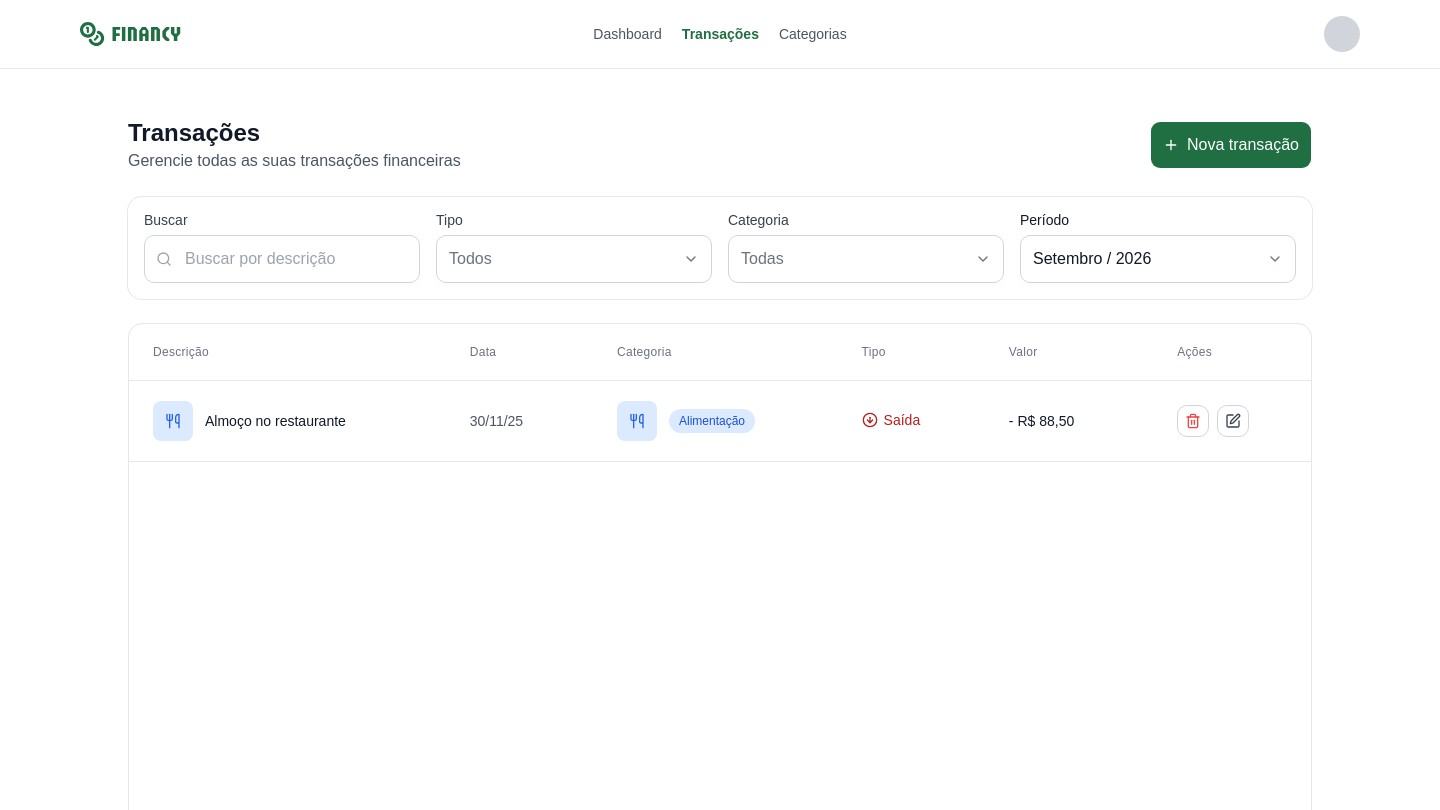
TransactionsPage › opens DeleteTransactionAlert for the clicked row's transaction
Click the button named "Excluir" at coordinates (1193, 421), box [1177,405,1209,437]
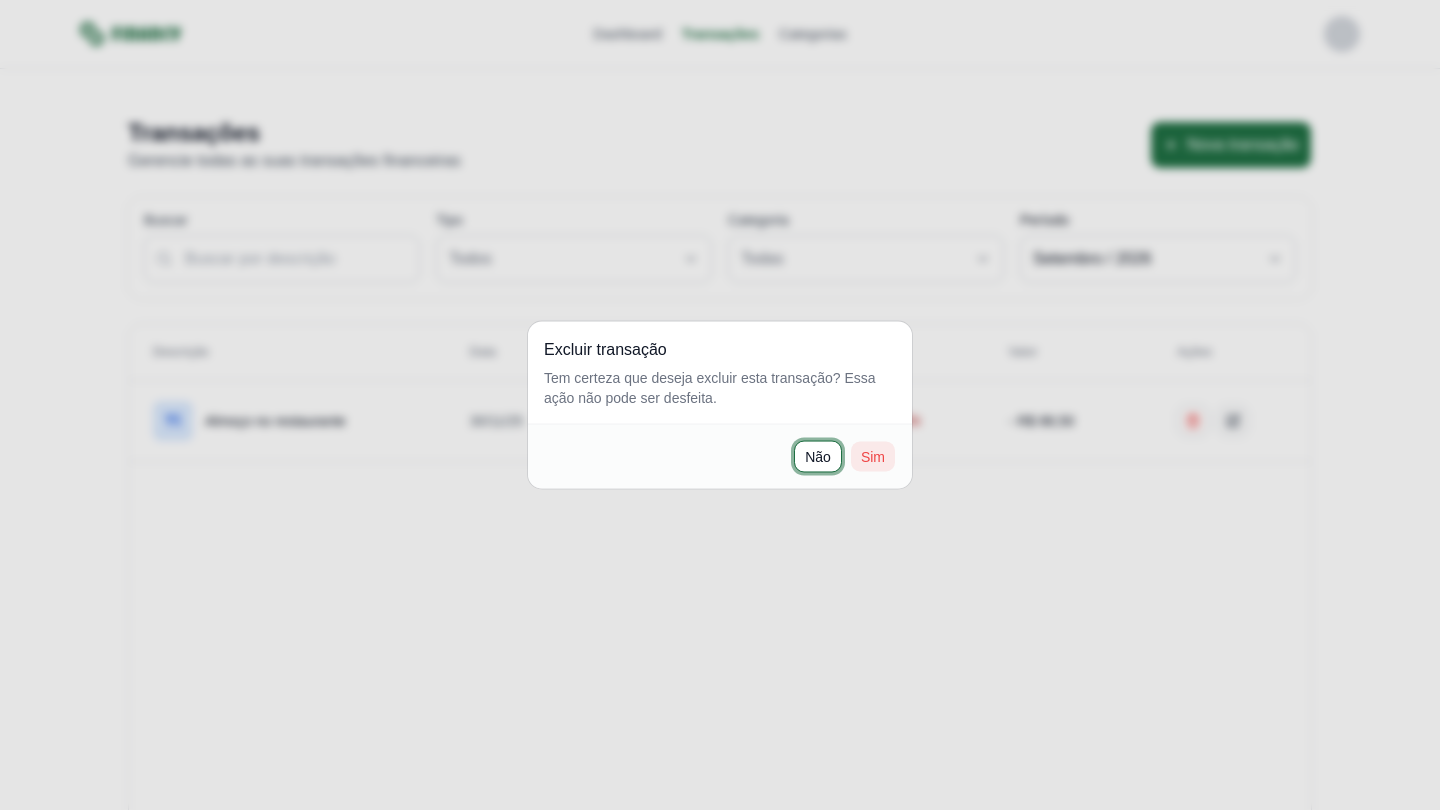
Check: the heading "Excluir transação" is shown, box [544,338,667,362]
